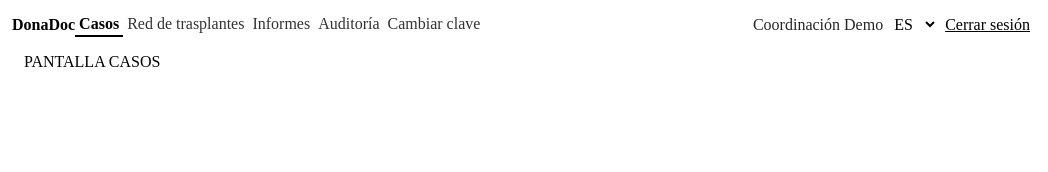
guardias de ruta › los enlaces de la barra navegan a su ruta
What coordinates should you click on to do the following:
click the button "Red de trasplantes"
I would click on:
 (186, 24)
Its box is [123, 12, 248, 36].
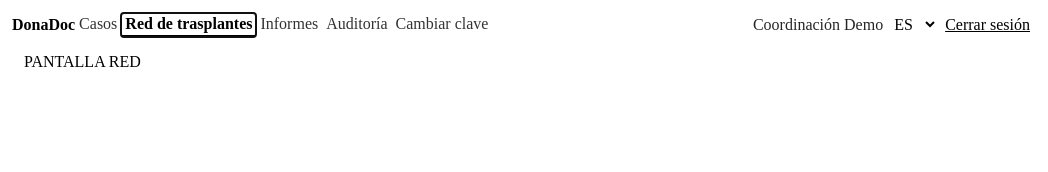
Expected: the text "PANTALLA RED" is shown, [24, 53, 141, 70]
